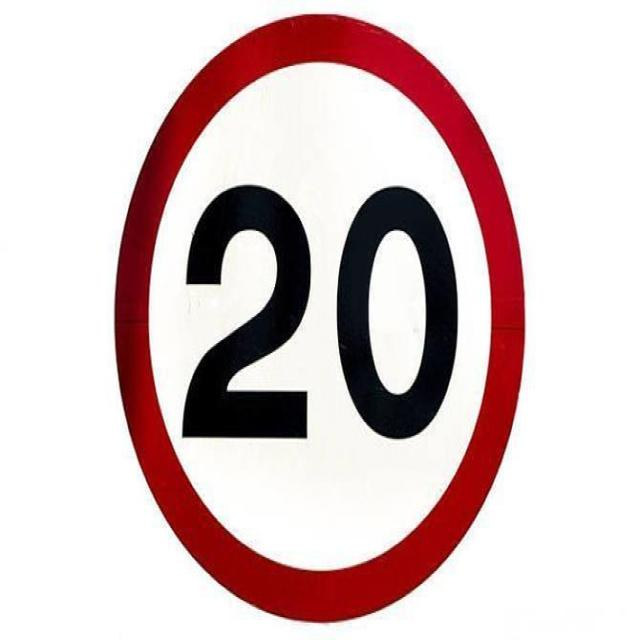speed limit 20: (114, 14, 526, 624)
